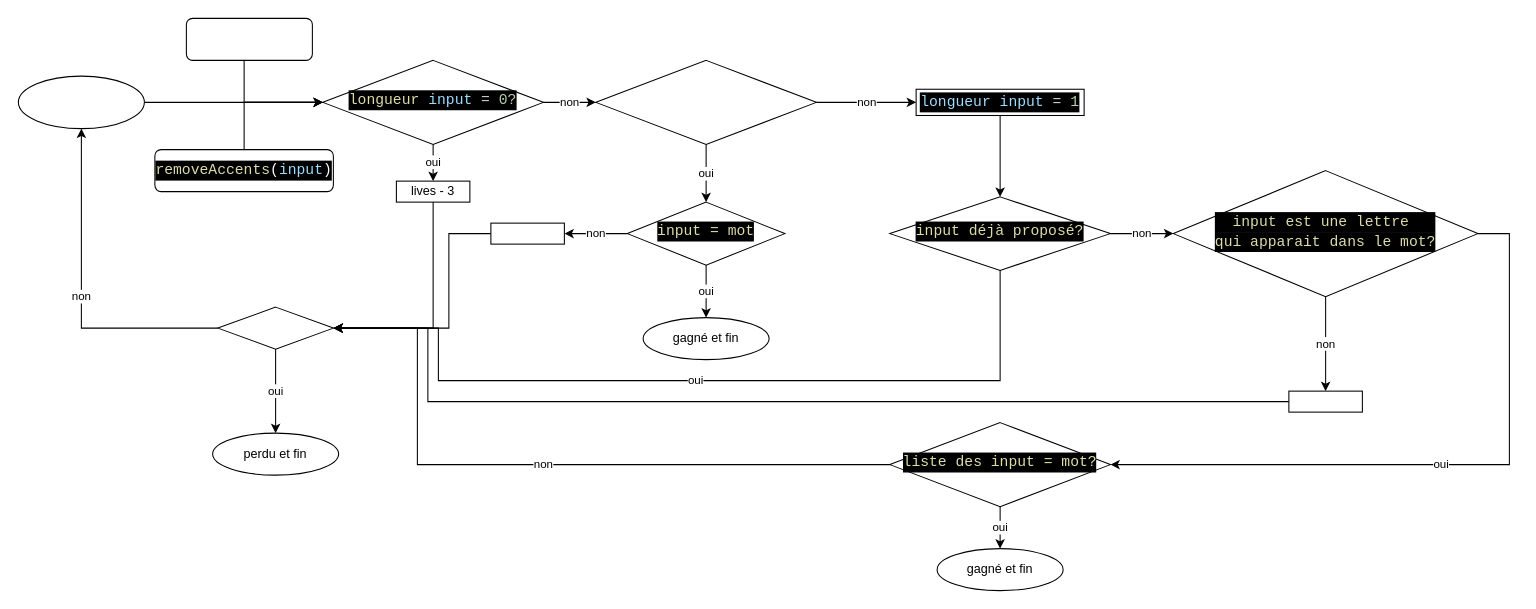
Some shapes in this 1536 by 609 pixel diagram are drawn without their labels. The shapes that lost their labels are listed below. From the top down, each one's box as (x1, y1, x2, y2) in pixels, then its label:
(185, 17, 312, 60): ToLower ( input )
(17, 75, 144, 129): input
(595, 59, 816, 144): longueur input > 1 ?
(490, 222, 564, 244): lives - 2
(217, 306, 333, 349): lives <= 0?
(1288, 390, 1362, 412): lives - 1
